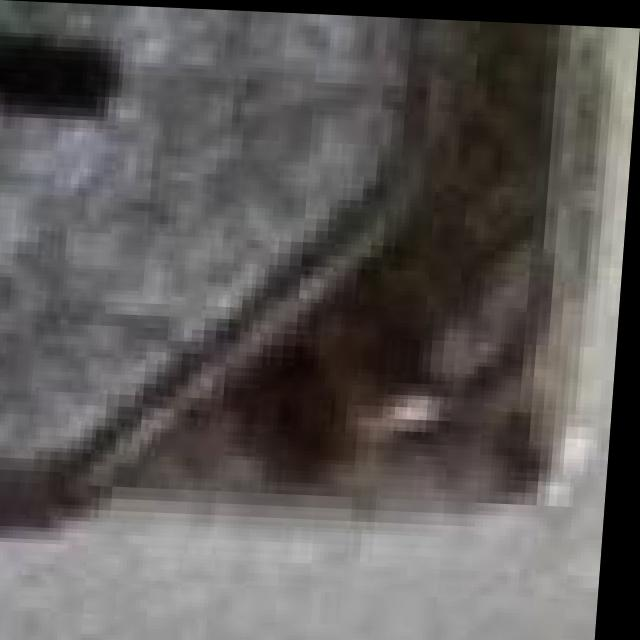inductor: (0, 0, 600, 621)
